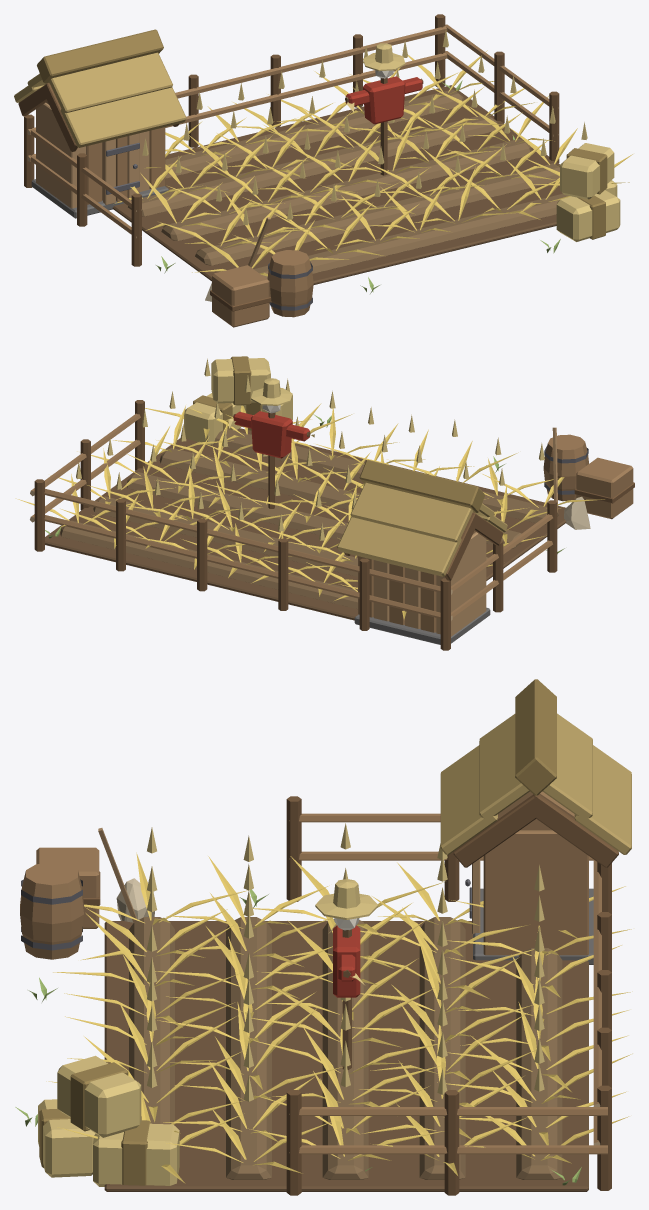
Rendered from farm_3.glb.
The picture shows the model from 3 angles, top to bottom: view 1: azimuth 30°, elevation 25°; view 2: azimuth 150°, elevation 25°; view 3: azimuth 270°, elevation 25°; orthographic projection. The views are drawn at different scales.
Visible parts, largest first — view 1: Farm; view 2: Farm; view 3: Farm.
Boxes of the visible parts, x1,y1,x2,y2 form: Farm: (14,14,632,327); Farm: (15,356,634,650); Farm: (15,679,632,1195).
Size of the model in its own units: 7.43 by 2.26 by 5.9.
